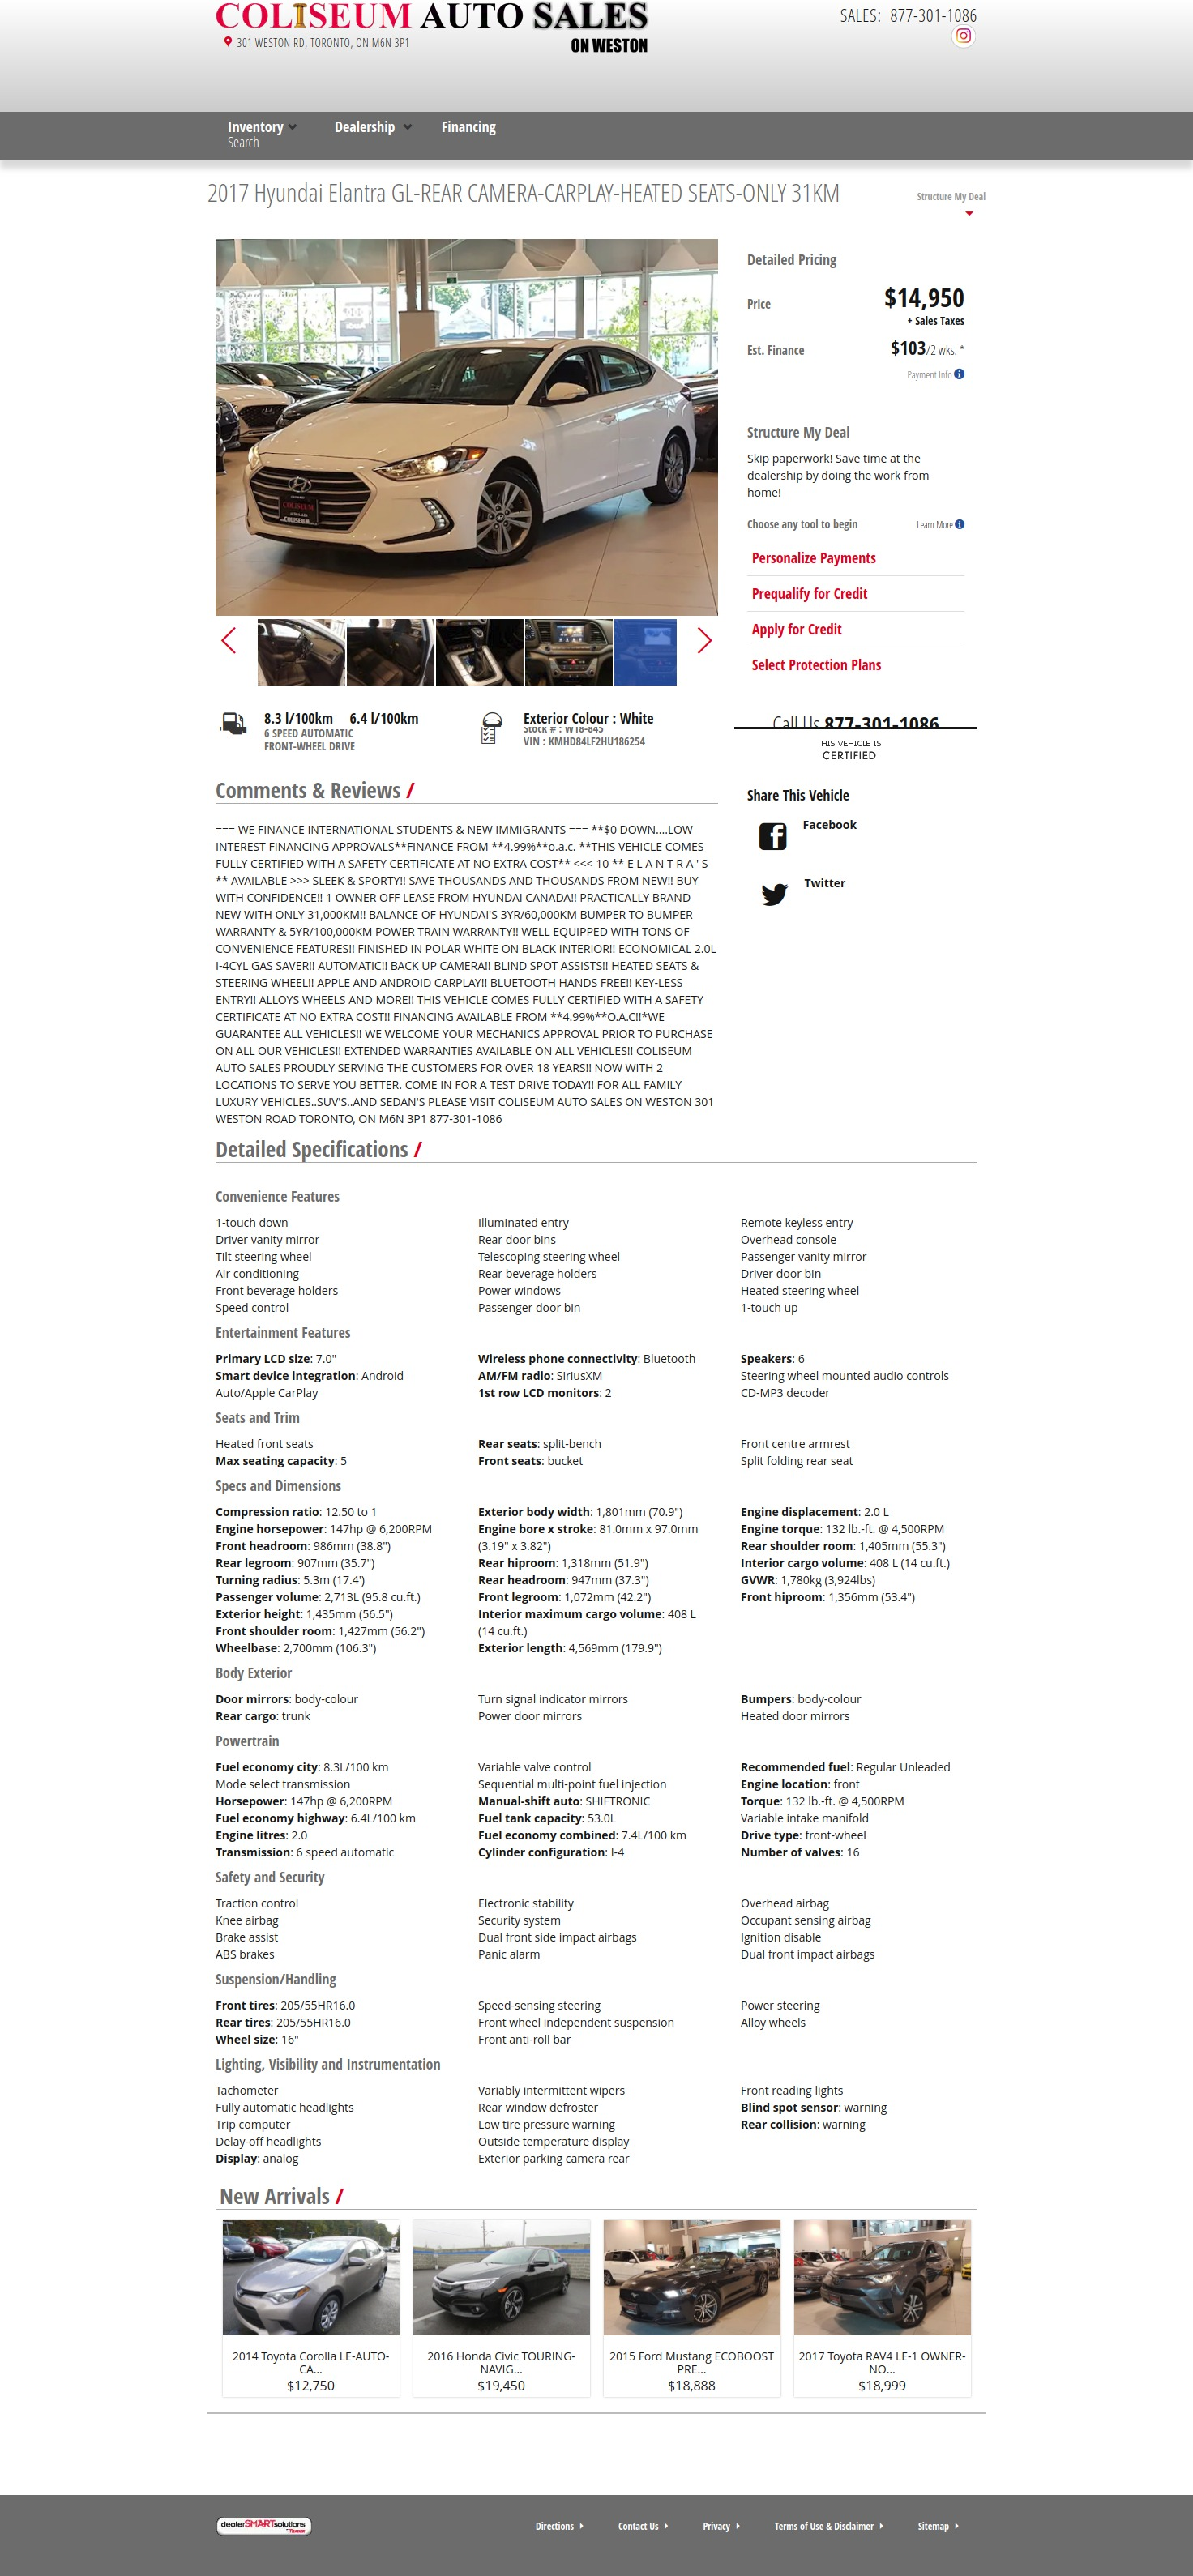car: (697, 628, 715, 655)
